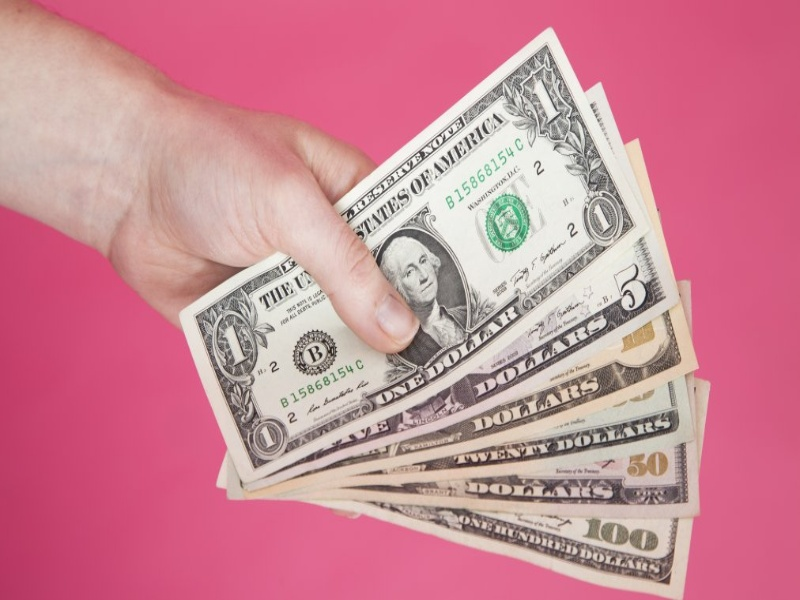cash: (179, 27, 711, 600)
